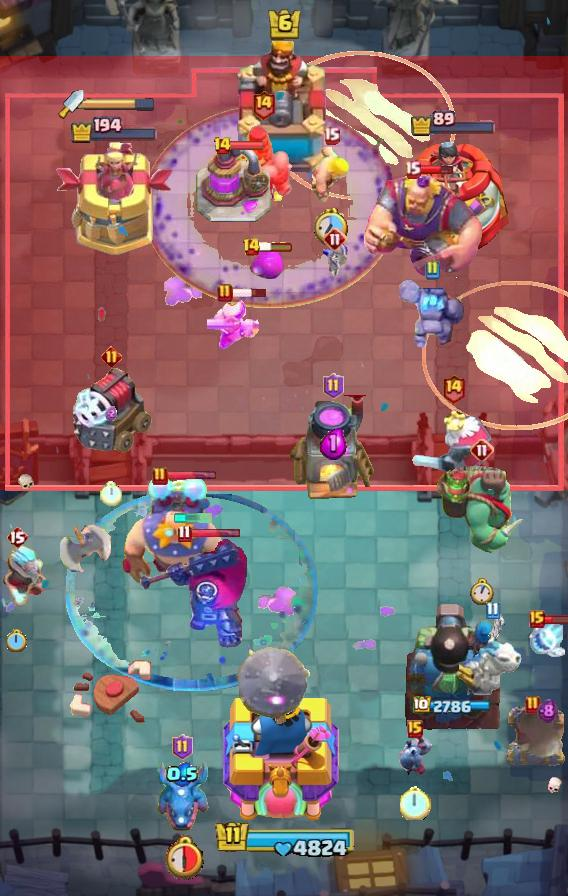archer: (310, 146, 352, 202)
arrows: (207, 298, 261, 352)
bar: (54, 142, 173, 256)
bat: (529, 618, 565, 658)
clock: (210, 819, 358, 861)
electro-spirit: (320, 426, 347, 460), (166, 761, 199, 786), (538, 698, 559, 724), (105, 407, 117, 422)
elite-barbarian: (231, 124, 295, 204)
elixir: (161, 833, 204, 879), (314, 207, 348, 245), (400, 784, 431, 819), (470, 578, 494, 606), (100, 481, 122, 506), (7, 629, 27, 652)
emote: (165, 470, 217, 482), (189, 528, 241, 539), (418, 163, 454, 176), (232, 287, 269, 299), (258, 241, 294, 253), (229, 140, 265, 151), (544, 614, 568, 625)
goblin: (322, 241, 348, 279)
golem: (68, 366, 154, 456)
graveyard: (153, 757, 211, 833)
hunter: (288, 395, 378, 503)
ice-spirit: (173, 513, 213, 523)
ice-wizard: (266, 51, 456, 201), (422, 281, 568, 430)
inferno-tower: (137, 534, 249, 648)
king-tower: (223, 689, 345, 826), (228, 41, 340, 181)
king-tower-bar: (84, 97, 156, 111)
lava-hound: (435, 463, 529, 557)
lightning: (364, 174, 485, 280)
little-prince: (119, 475, 229, 591)
miner: (249, 251, 285, 281)
mini-pekka: (459, 614, 525, 698)
mortar: (0, 542, 46, 606)
mortar-evolution: (412, 408, 494, 478)
musketeer: (504, 703, 568, 769)
pad_0: (66, 489, 320, 691)
pekka: (195, 142, 273, 224)
queen-tower: (390, 137, 516, 255)
rocket: (142, 104, 398, 308)
royal-delivery: (394, 735, 436, 777)
royal-giant: (58, 508, 112, 572)
selected: (69, 116, 158, 144), (411, 111, 498, 138), (413, 696, 493, 716)
text: (252, 88, 277, 119), (442, 373, 467, 404), (323, 227, 347, 251), (470, 438, 494, 462), (323, 373, 344, 399), (172, 734, 193, 760), (6, 525, 28, 549), (101, 345, 122, 366), (212, 136, 232, 156), (242, 237, 262, 257), (323, 127, 341, 146), (403, 161, 421, 179), (424, 260, 440, 280), (217, 283, 233, 303), (152, 466, 168, 486), (525, 695, 541, 715), (529, 610, 545, 628), (407, 720, 423, 738), (177, 525, 192, 543), (485, 601, 499, 620)
tower-bar: (403, 601, 503, 731)
valkyrie-evolution: (399, 277, 465, 349)
x-bow: (231, 646, 311, 726)
